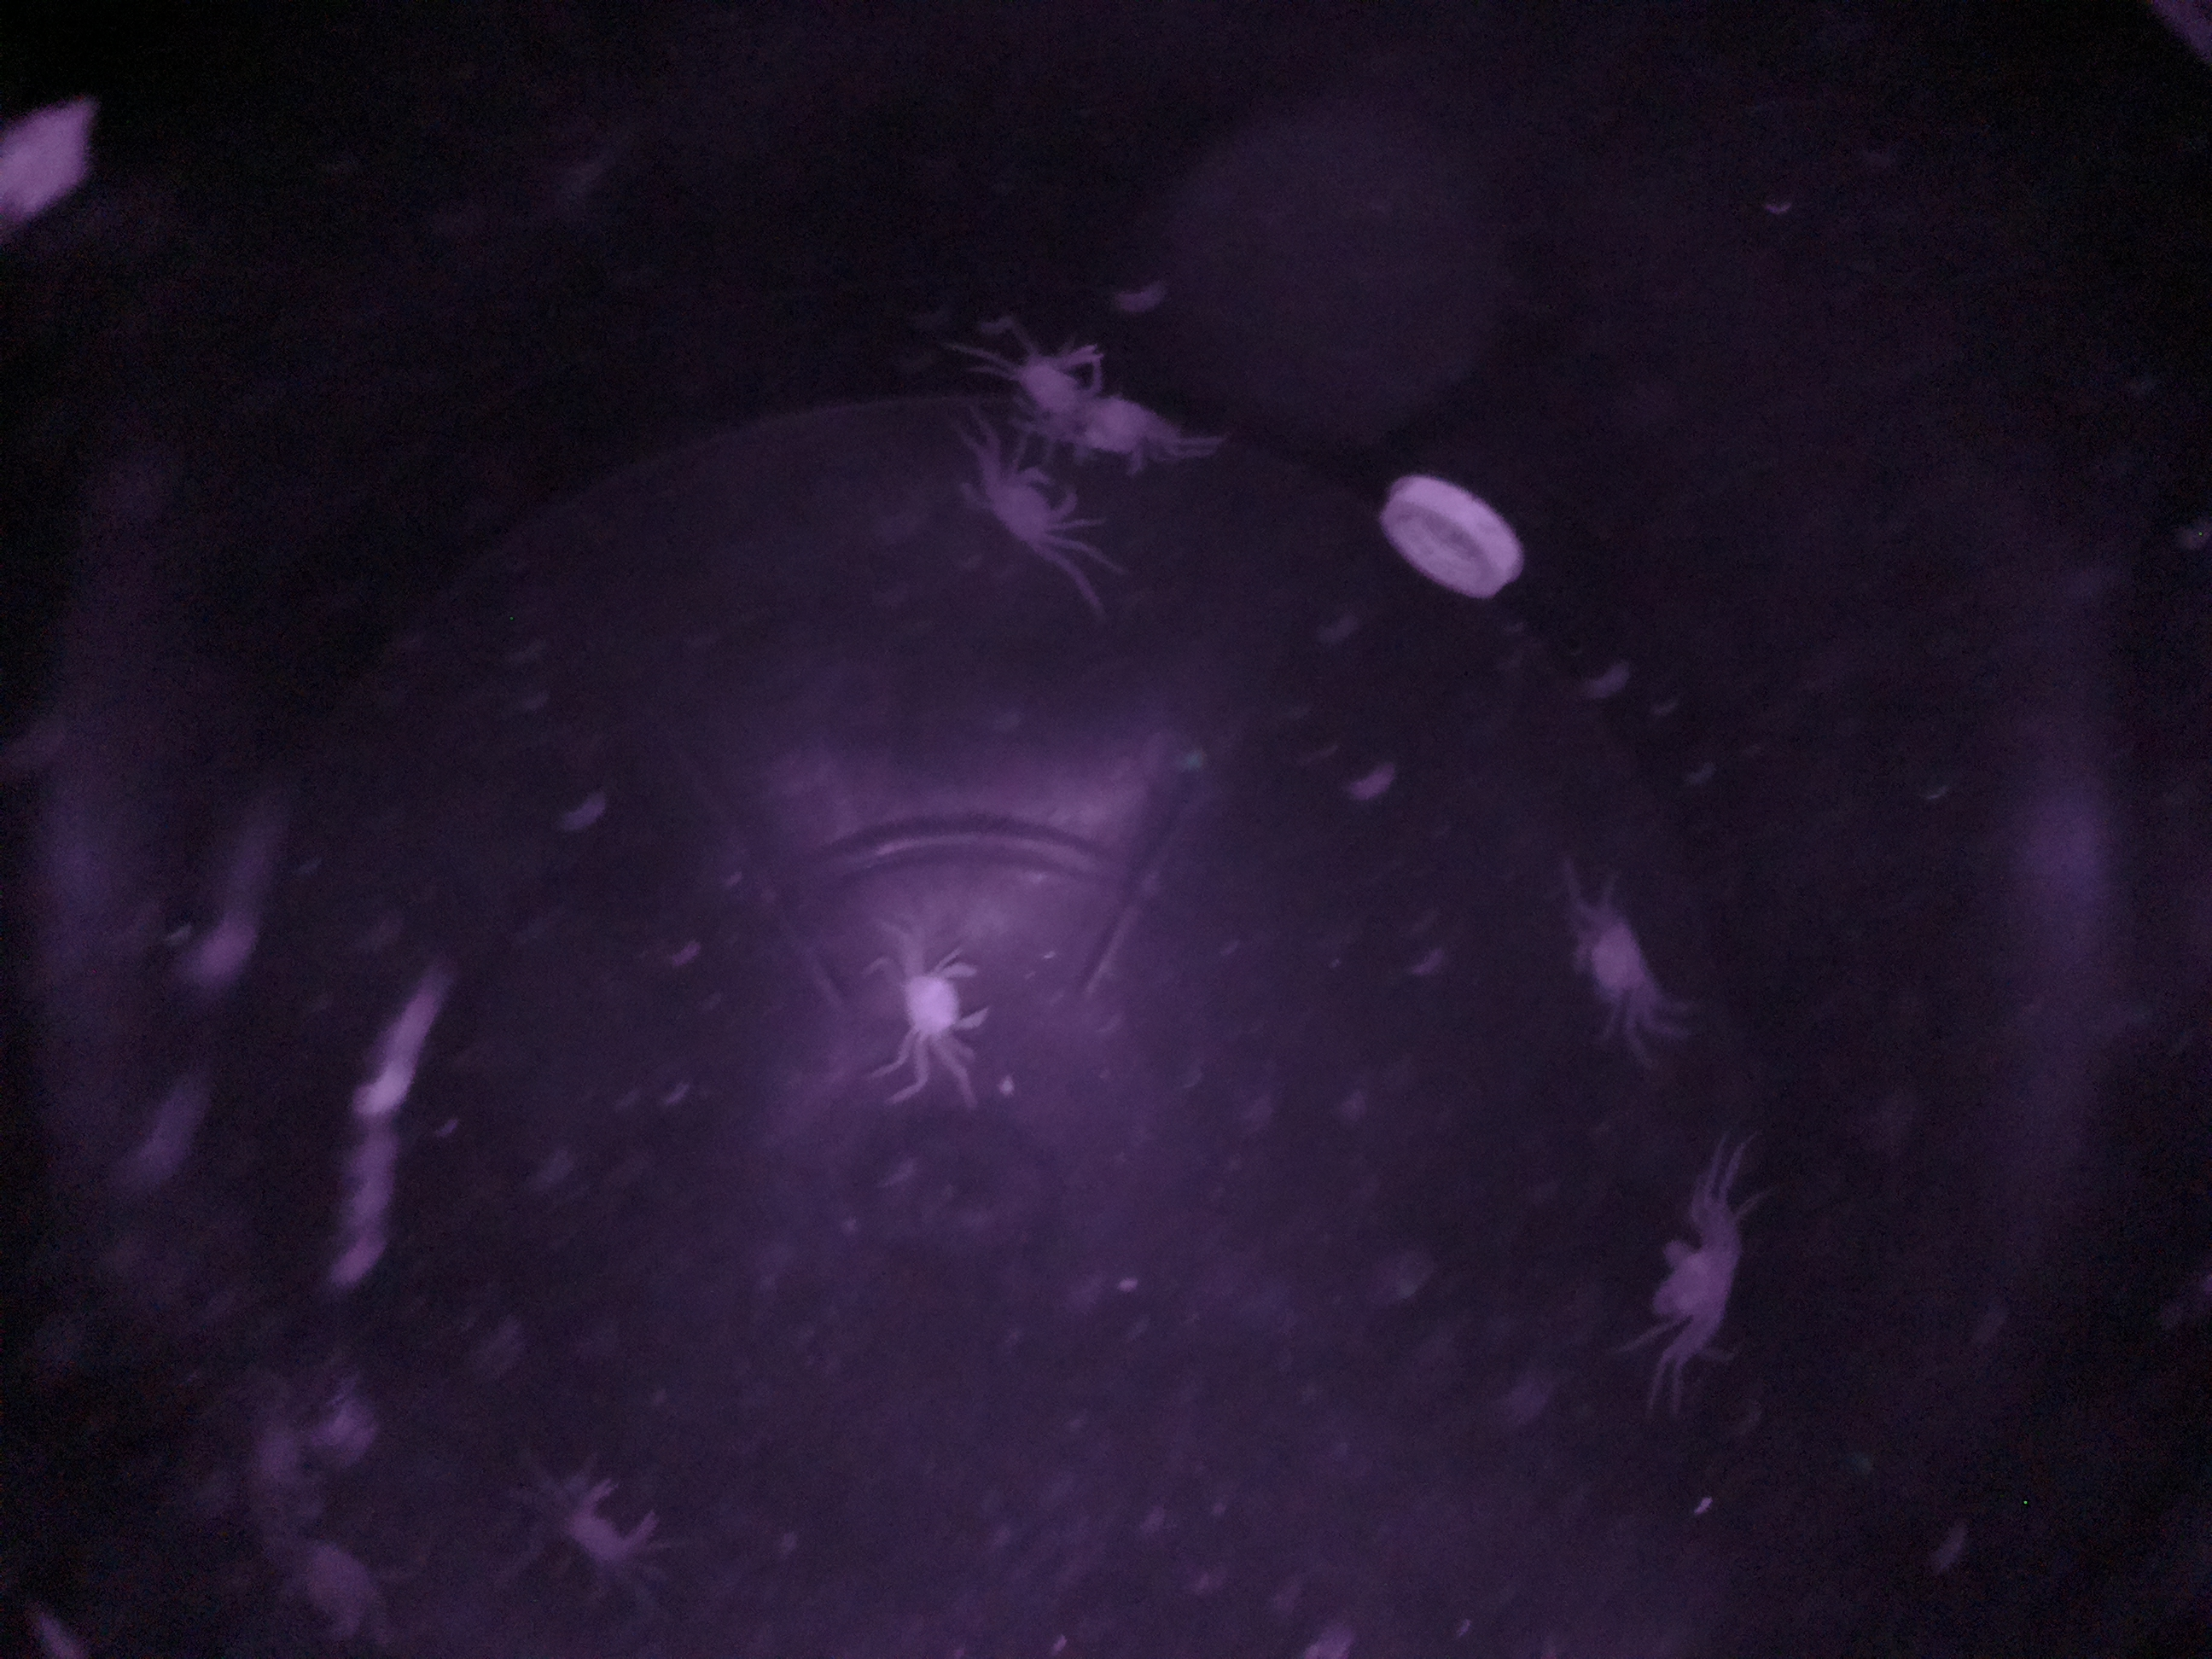Crab: (1637, 1206, 1784, 1370), (871, 929, 1010, 1066)
